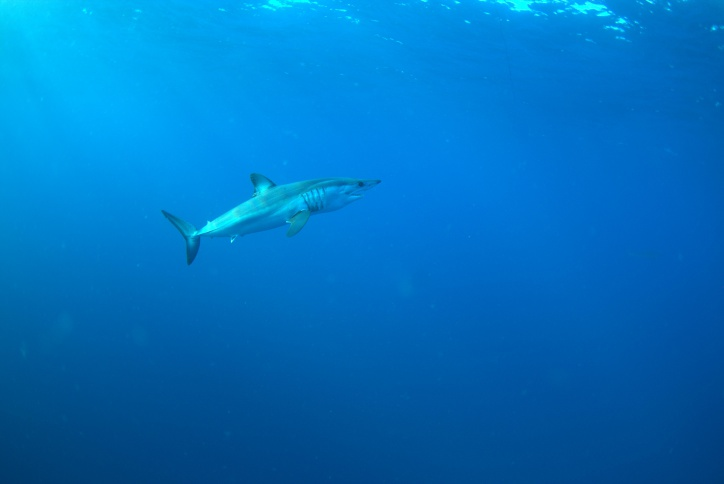Mako: (146, 162, 388, 272)
